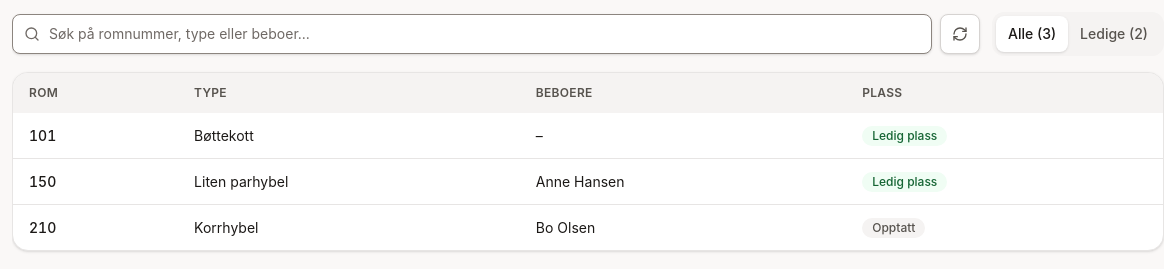
AllRoomsTab › searches by resident name
Type "olsen" into the search field named "Søk i rom" at [472, 34], box [12,14,932,54]
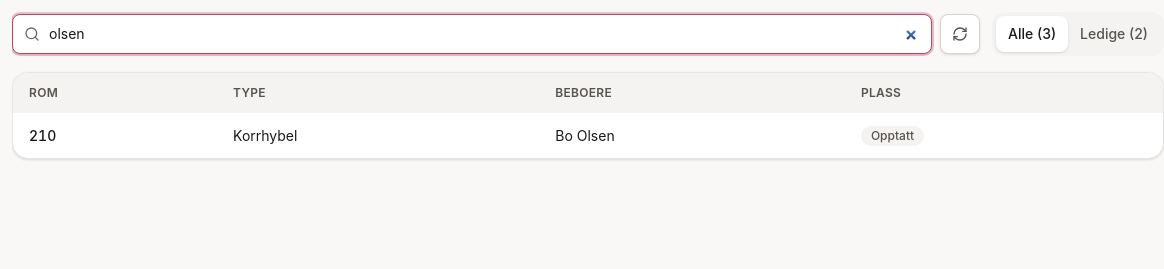
Check: the text "Bo Olsen" is shown, box [539,113,845,158]
Check: the text "Anne Hansen" is gone
